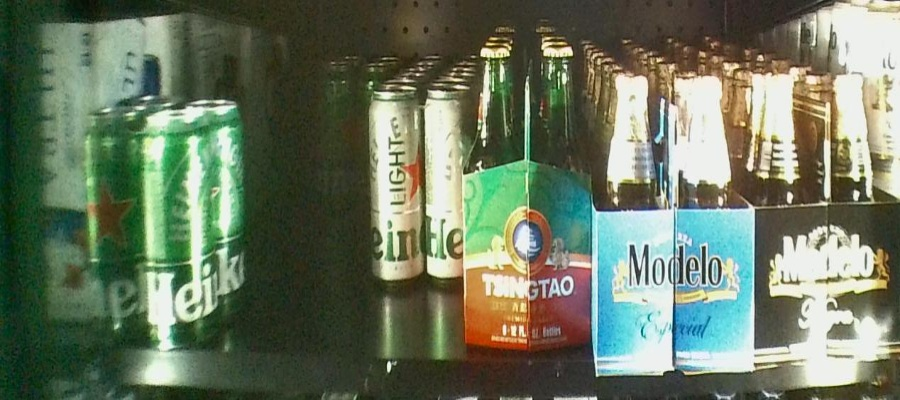bottle: (592, 68, 754, 374), (750, 74, 900, 364), (466, 40, 591, 352), (83, 108, 219, 341), (368, 88, 464, 288), (308, 60, 368, 223)
